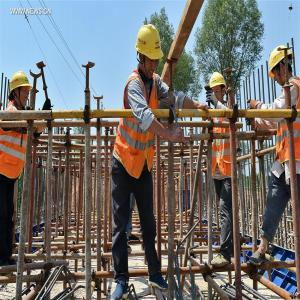yellow: (136, 23, 162, 79), (269, 45, 293, 85), (11, 73, 32, 107), (210, 72, 226, 104)
